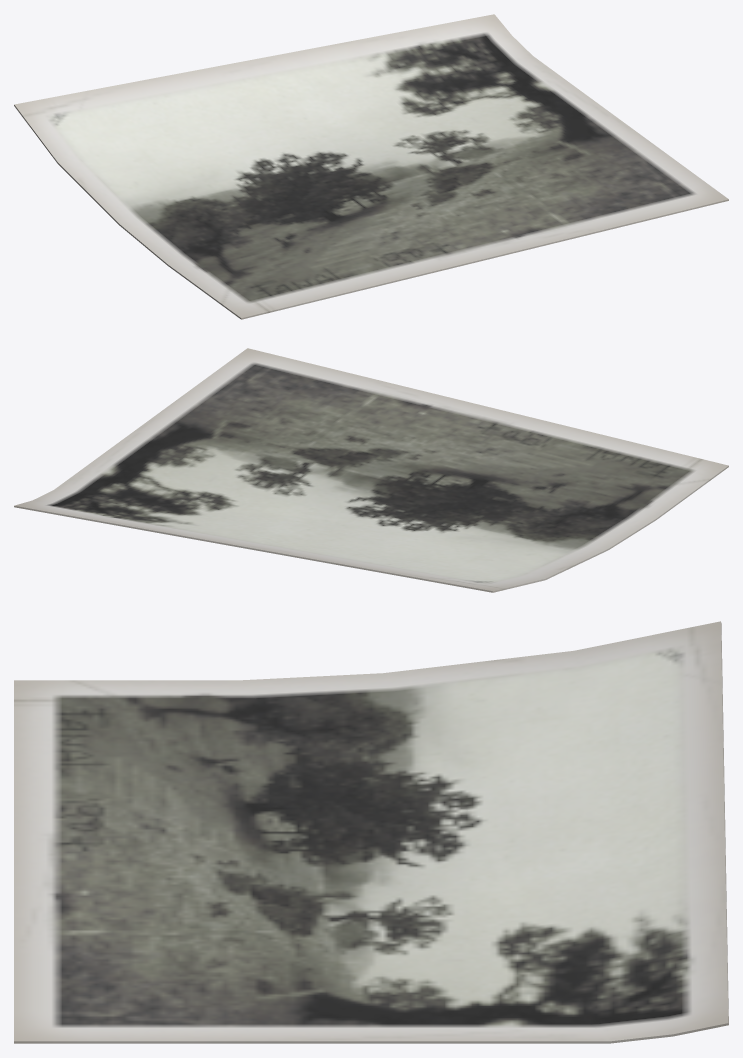
The model's file is Picture_5_Large.FBX.
3 renders of one model, top to bottom at view 1: azimuth 30°, elevation 25°; view 2: azimuth 150°, elevation 25°; view 3: azimuth 270°, elevation 25°, orthographic. The views are drawn at different scales.
Visible parts, largest first — view 1: Picture_5_Large; view 2: Picture_5_Large; view 3: Picture_5_Large.
Part boxes in pixels (x1,y1,x2,y2): Picture_5_Large: (14, 14, 728, 319); Picture_5_Large: (14, 348, 728, 592); Picture_5_Large: (14, 621, 728, 1043).
Size of the model in its own units: 34.62 by 2.93 by 28.92.
